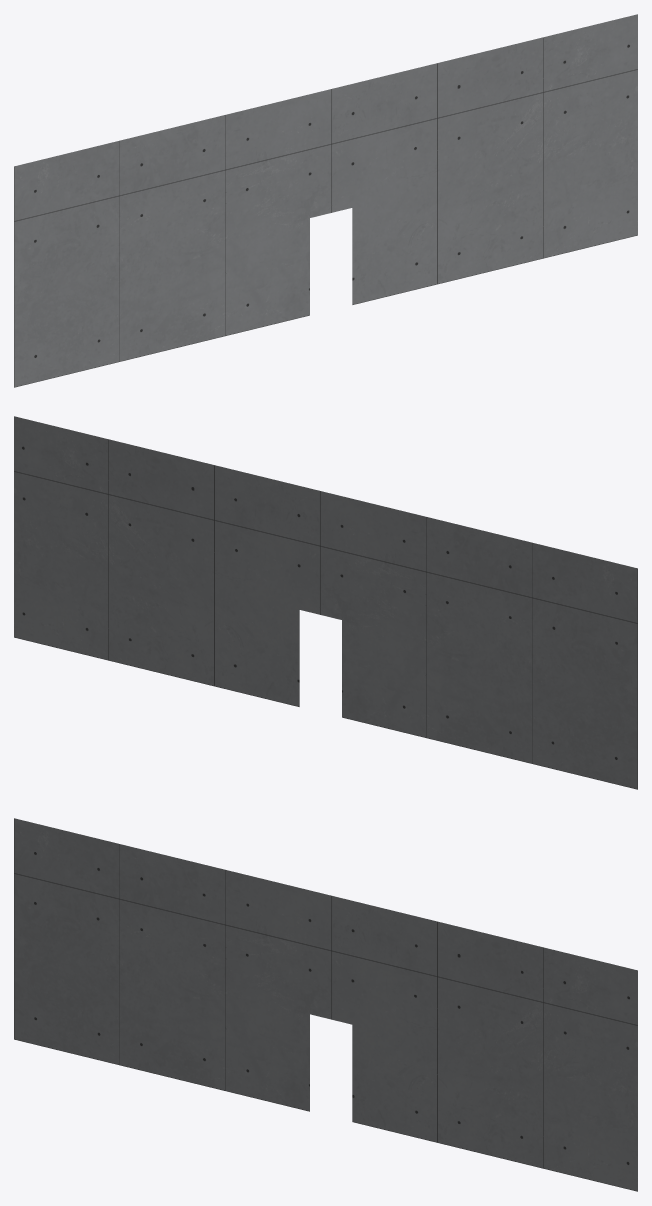
Rendered from SM06_Building_WallPanel_Interior_03_BottomDoor_01_Corner_R.fbx.
3 renders of one model, top to bottom at view 1: azimuth 30°, elevation 25°; view 2: azimuth 150°, elevation 25°; view 3: azimuth 330°, elevation 25°, orthographic.
Visible parts, largest first — view 1: SM06_Building_WallPanel_Interior_03_BottomDoor_01_Corner_R; view 2: SM06_Building_WallPanel_Interior_03_BottomDoor_01_Corner_R; view 3: SM06_Building_WallPanel_Interior_03_BottomDoor_01_Corner_R.
Boxes of the visible parts, x1=… form: SM06_Building_WallPanel_Interior_03_BottomDoor_01_Corner_R: x1=14, y1=14, x2=637, y2=387; SM06_Building_WallPanel_Interior_03_BottomDoor_01_Corner_R: x1=14, y1=416, x2=637, y2=789; SM06_Building_WallPanel_Interior_03_BottomDoor_01_Corner_R: x1=14, y1=818, x2=637, y2=1191.
Bounding box in the file's own units: 14.75 × 5 × 5.63e-06.
